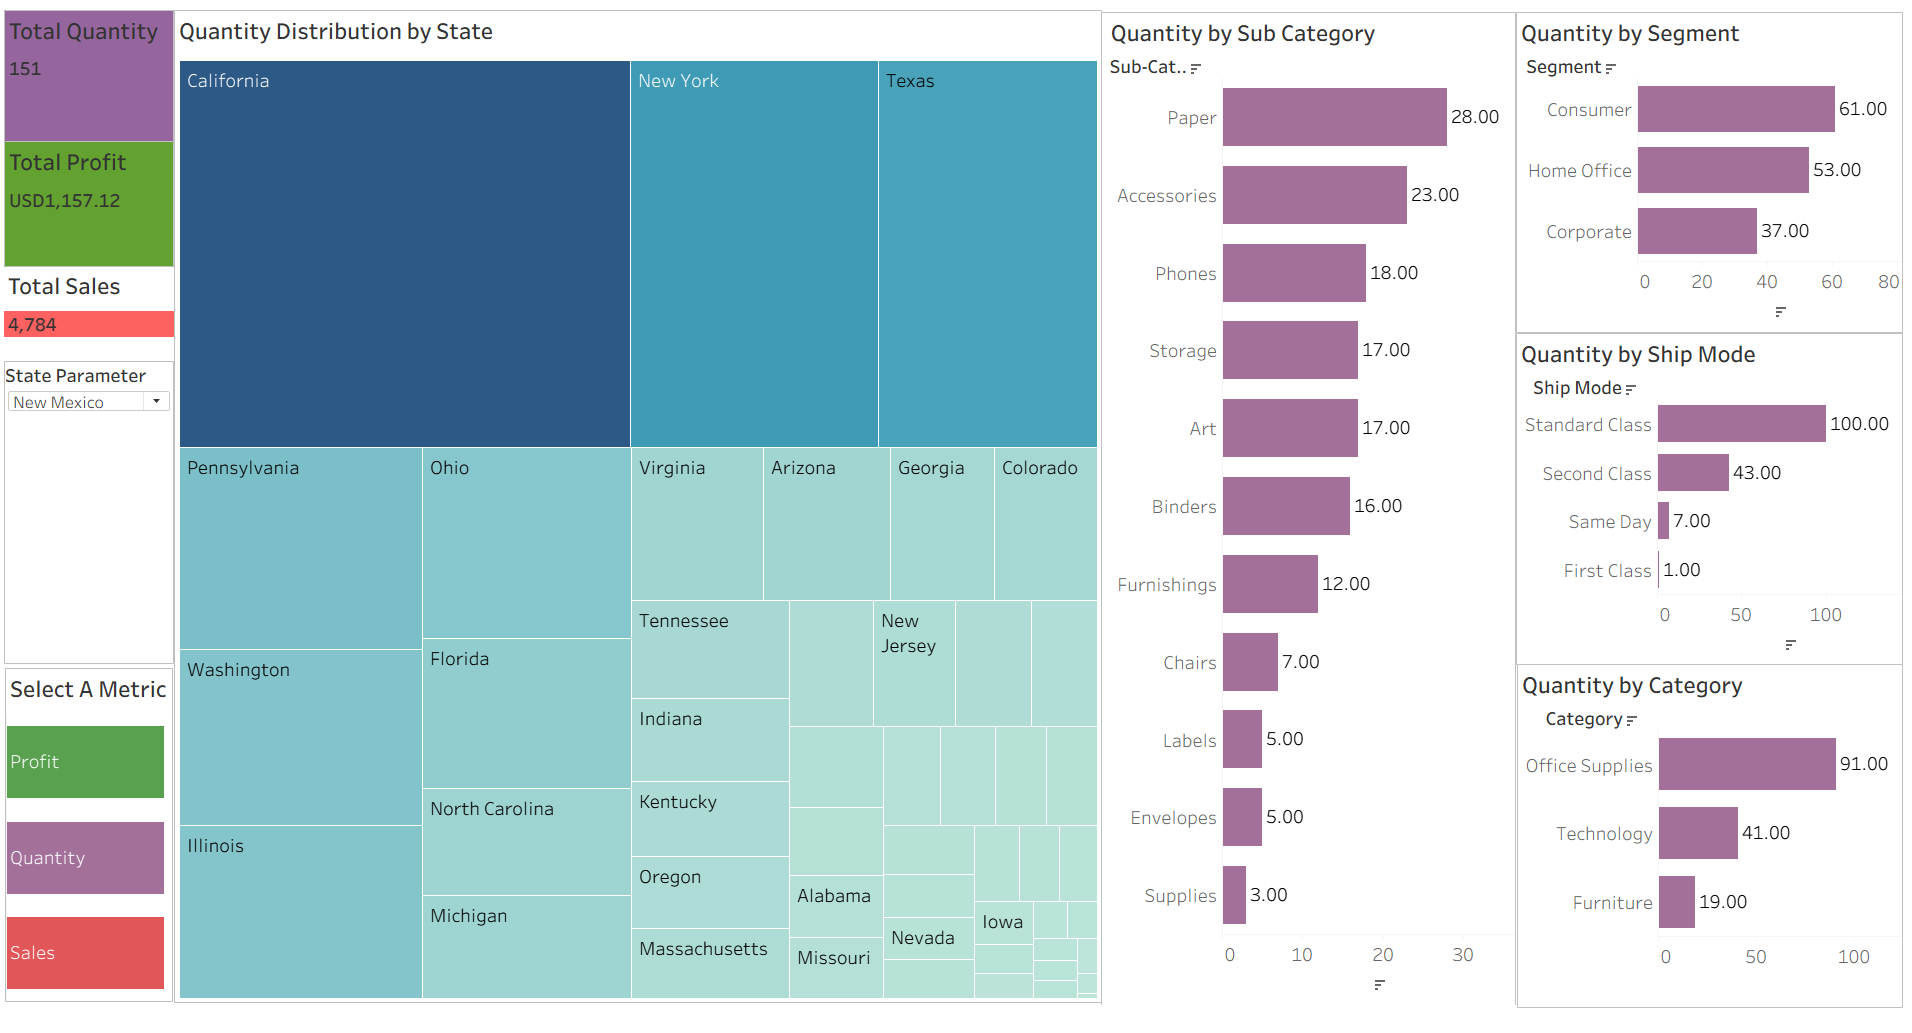

What the dashboard file says about the page in this screenshot:
{"tool":"tableau","page":{"name":"Dashboard 1","canvas":[1000,1000],"units":"permille","ordinal":0},"visuals":[{"type":"worksheet","title":"Quantity","mark":"Automatic","box":[4.8,9.9,88.7,127.8]},{"type":"worksheet","title":"Select A State","mark":"Automatic","box":[93,9.9,483.5,959.1]},{"type":"worksheet","title":"Sub Category X ","mark":"Automatic","rows":["Sub-Category"],"cols":["Calculation_1583015325125595136"],"box":[576,11.2,216.3,960.3]},{"type":"worksheet","title":"Segment X ","mark":"Automatic","rows":["Segment"],"cols":["Calculation_1583015325125595136"],"box":[792.2,11.2,201.4,310.2]},{"type":"worksheet","title":"Profit","mark":"Automatic","box":[4.8,136.5,88.7,121.6]},{"type":"worksheet","title":"Sales","mark":"Automatic","box":[4.8,256.8,88.7,125.3]},{"type":"worksheet","title":"Ship mode X ","mark":"Automatic","rows":["Ship Mode"],"cols":["Calculation_1583015325125595136"],"box":[792.2,321.3,201.4,321.3]},{"type":"parameter","param":"[Parameters].[State Parameter]","box":[4.8,348.6,88.7,292.8]},{"type":"worksheet","title":"Category X","mark":"Automatic","rows":["Category"],"cols":["Calculation_1583015325125595136"],"box":[792.8,641.4,200.8,332.5]},{"type":"worksheet","title":"Select A Metric","mark":"Automatic","cols":["Calculation_1583015325129543682"],"box":[5.3,645.2,87.7,322.6]}]}

Visuals, with their boxes on the dashboard's canvas, which has no fixed pixel size, in thousandths of its width and height (x1, y1, x2, y2). These are canvas units, not pixel positions in the 1912x1033 screenshot, which may show the page scaled, cropped or inside an application window:
"Quantity" worksheet: left=5, top=10, right=94, bottom=138
"Select A State" worksheet: left=93, top=10, right=576, bottom=969
"Sub Category X " worksheet: left=576, top=11, right=792, bottom=972
"Segment X " worksheet: left=792, top=11, right=994, bottom=321
"Profit" worksheet: left=5, top=136, right=94, bottom=258
"Sales" worksheet: left=5, top=257, right=94, bottom=382
"Ship mode X " worksheet: left=792, top=321, right=994, bottom=643
parameter: left=5, top=349, right=94, bottom=641
"Category X" worksheet: left=793, top=641, right=994, bottom=974
"Select A Metric" worksheet: left=5, top=645, right=93, bottom=968
